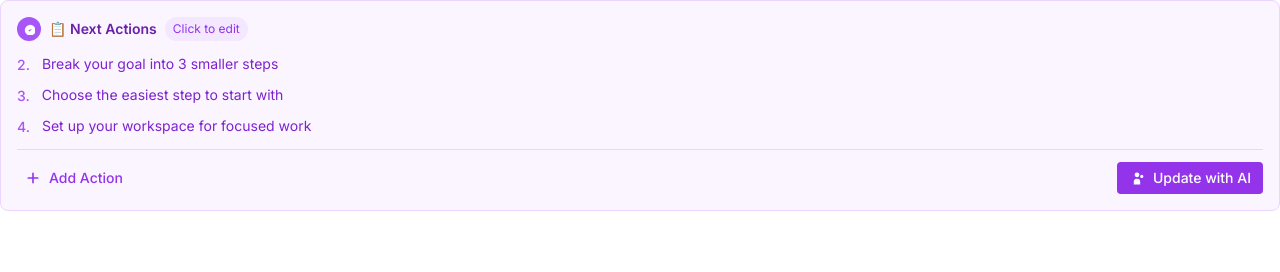
Test: EditableNextActions › enters edit mode when action is clicked
The image size is (1280, 272).
Click the button "Break your goal into 3 smaller steps": (160, 64) x1=42 y1=55 x2=278 y2=72
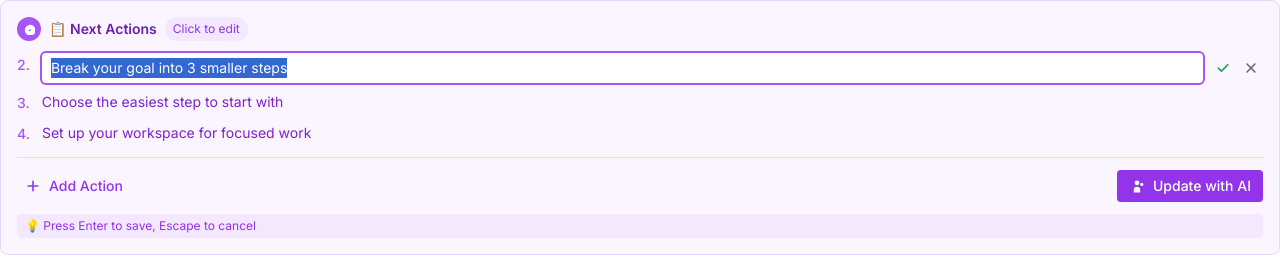
Expected: the field showing "Break your goal into 3 smaller steps" is shown, x1=42 y1=53 x2=1203 y2=83
